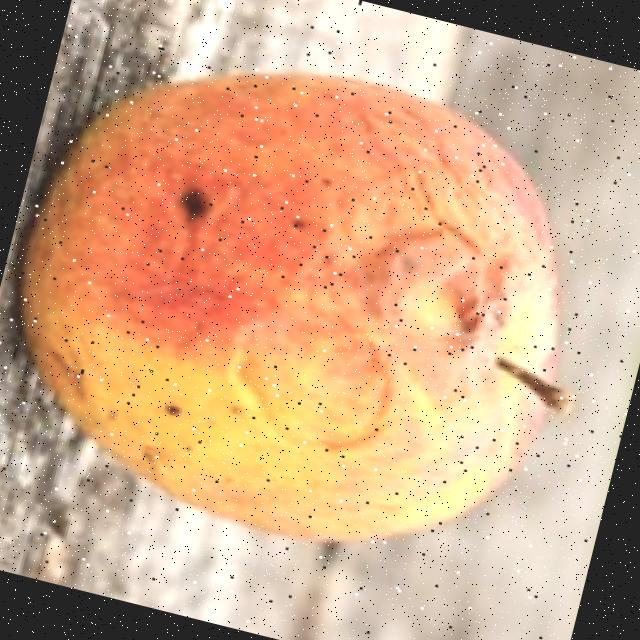Rotten: (0, 3, 617, 598)
